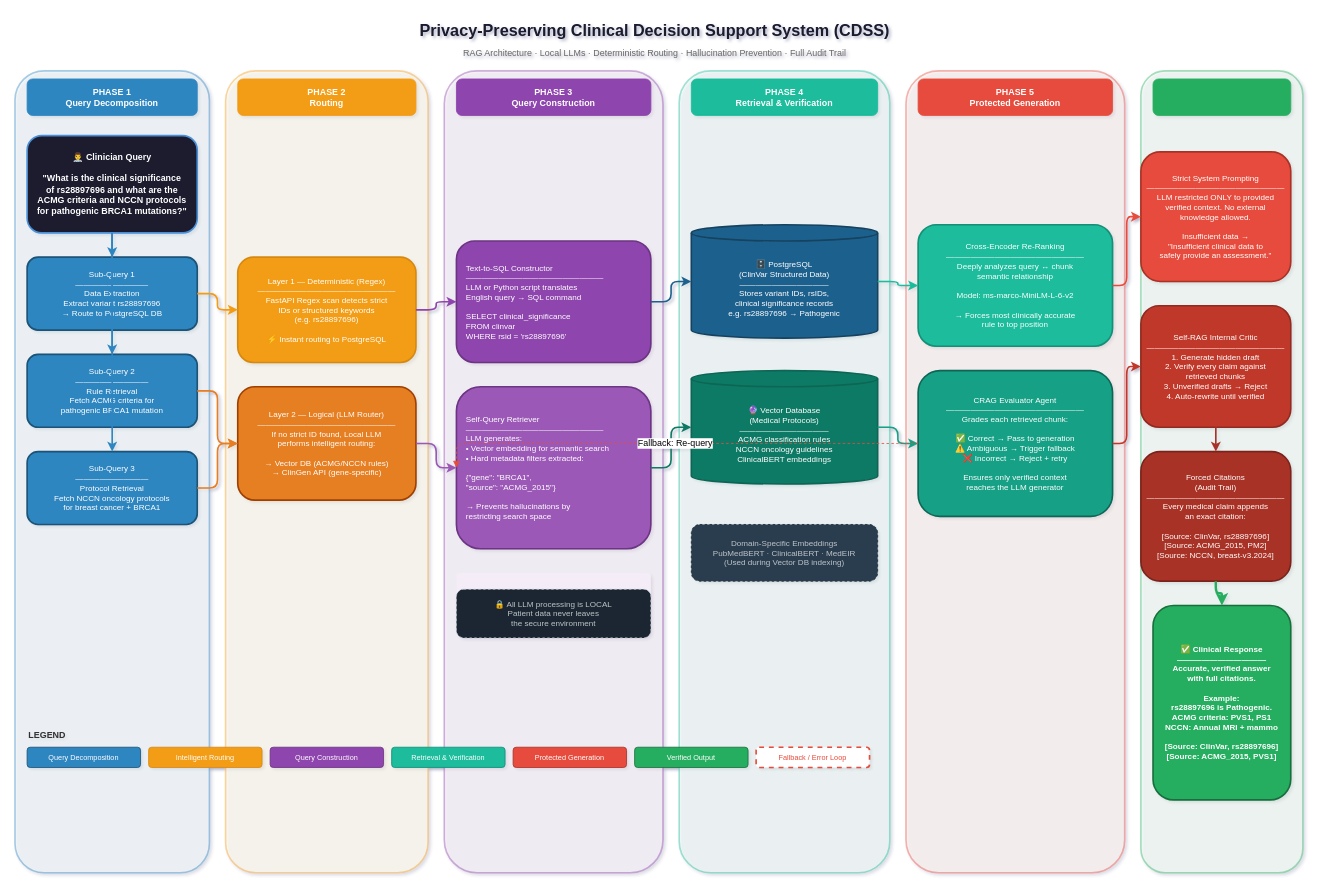
Image size: 1322x892. Some labels were removed from this diagram. The centre of each missing label's shape, as x and y in pixels:
"Multi-Query Translation" goes at point (553, 585).
"OUTPUT Clinical Response" goes at point (1221, 96).
